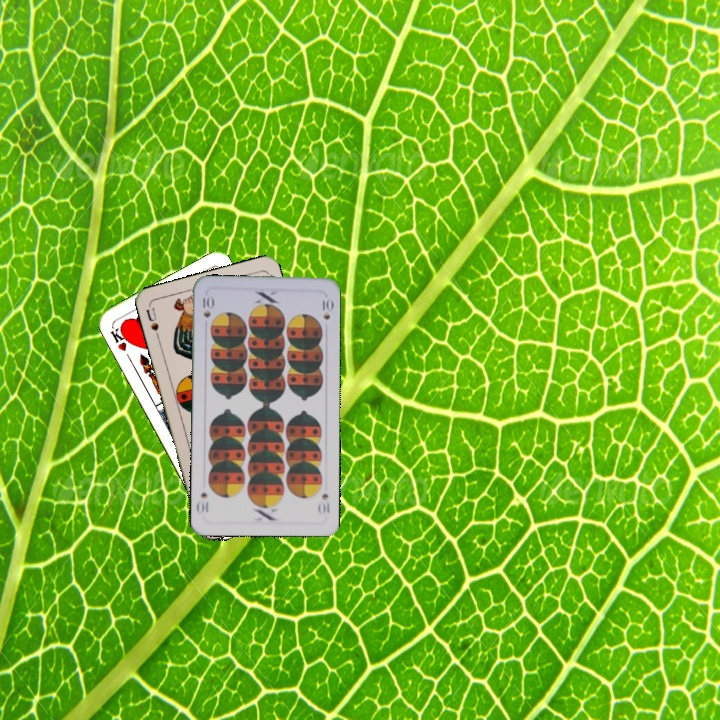HK: (106, 322, 133, 354)
S10: (315, 489, 332, 517), (199, 293, 215, 320)
SU: (142, 302, 162, 342)
